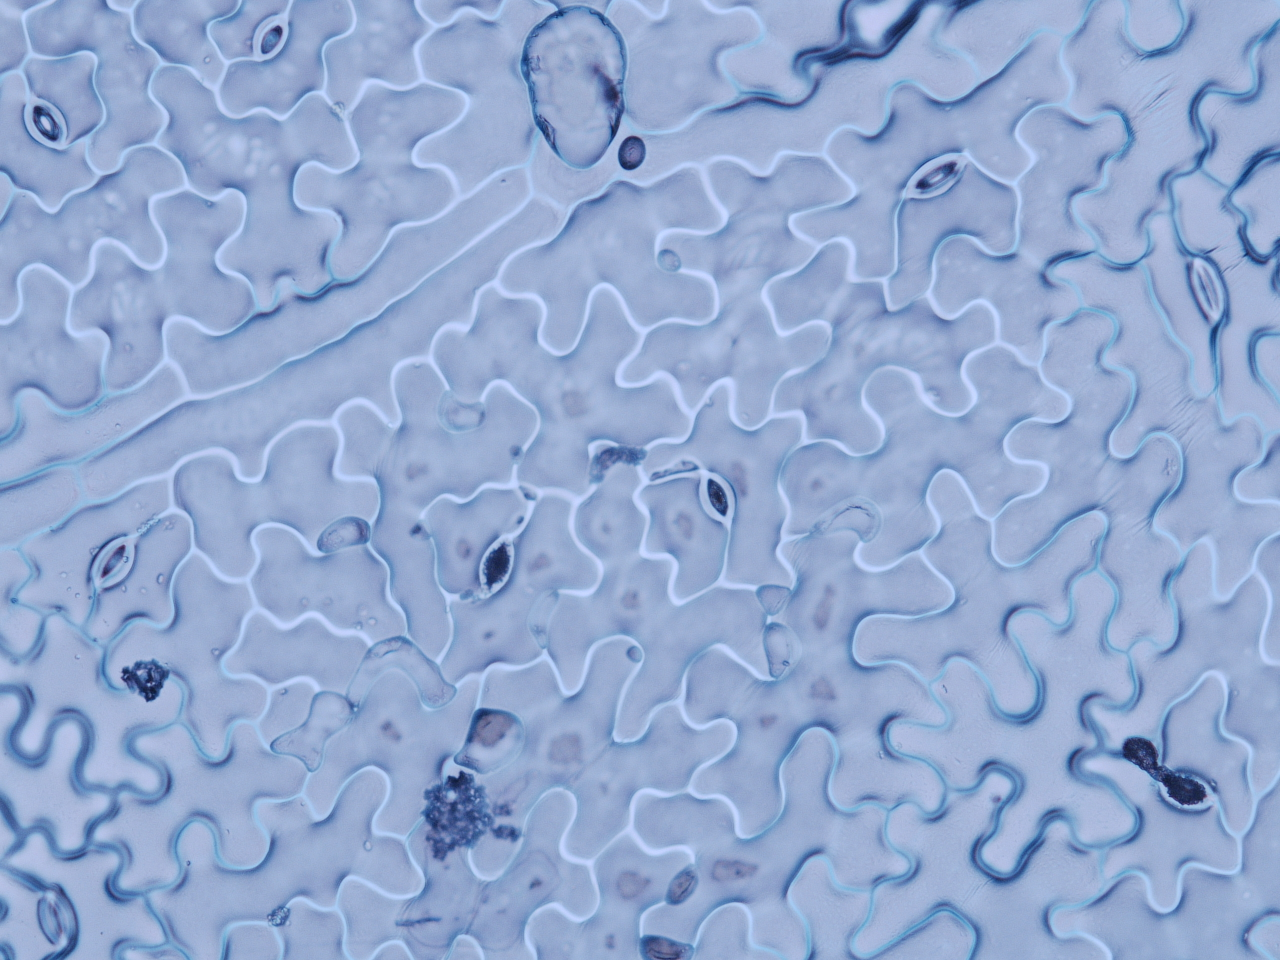estoma: (1184, 255, 1236, 326), (900, 146, 969, 197), (21, 95, 73, 151), (696, 469, 738, 529), (477, 537, 517, 599), (92, 535, 139, 587), (249, 20, 295, 62)
